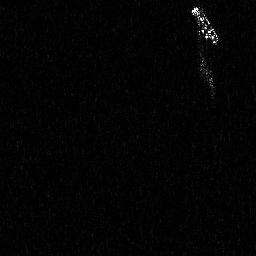ship: (190, 6, 219, 47)
